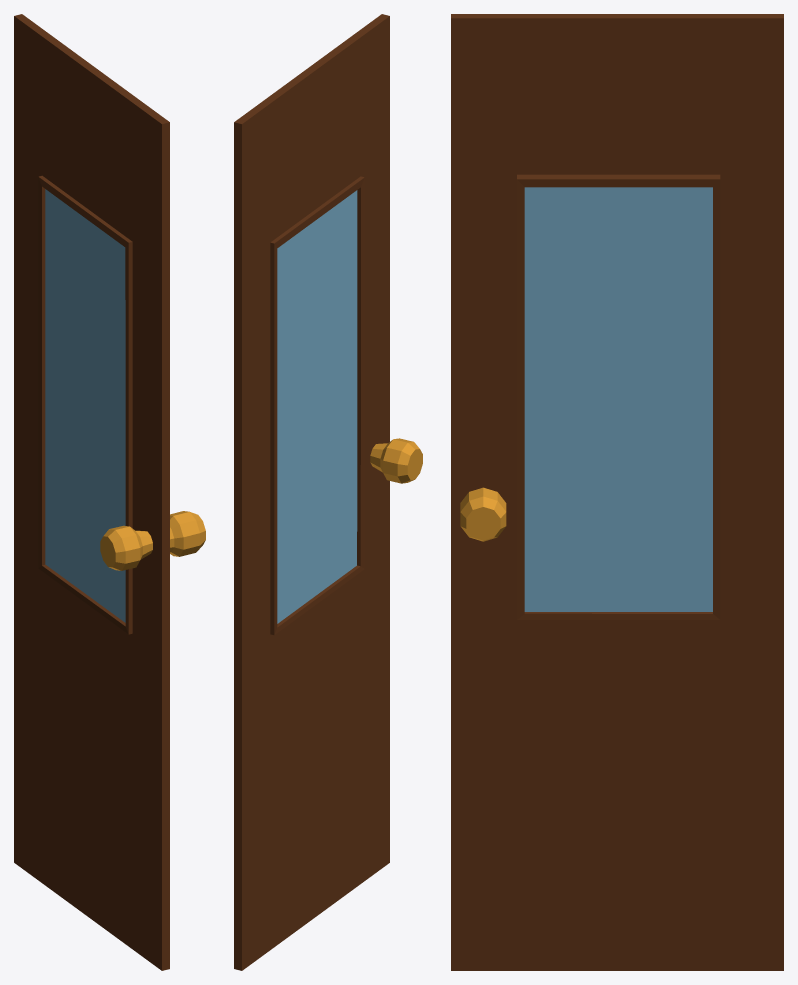
The model's file is Door1.fbx.
3 views of the same model, side by side, from view 1: azimuth 30°, elevation 25°; view 2: azimuth 150°, elevation 25°; view 3: azimuth 270°, elevation 25° (orthographic). The views are drawn at different scales.
Parts seen in each view (by area): view 1: Door1; view 2: Door1; view 3: Door1.
Part boxes in pixels (x1=…): Door1: x1=14, y1=14, x2=205, y2=970; Door1: x1=234, y1=14, x2=422, y2=970; Door1: x1=451, y1=14, x2=783, y2=970.
Size of the model in its own units: 22.43 by 201 by 63.65.
